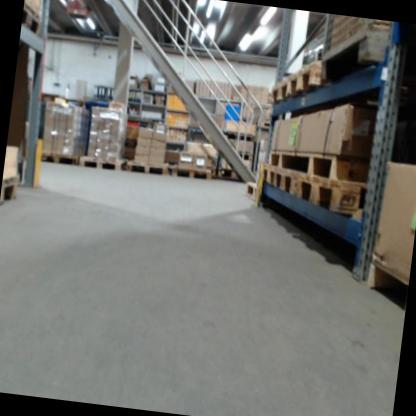pallet: (288, 174, 369, 215), (287, 59, 323, 102), (124, 156, 170, 177), (20, 0, 46, 35), (78, 152, 125, 170), (268, 73, 292, 108), (270, 165, 297, 194), (0, 175, 19, 208), (172, 165, 211, 181), (41, 149, 78, 165), (258, 164, 276, 187)
stillage: (317, 13, 395, 93)
